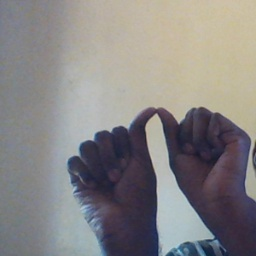A: (64, 103, 253, 232)
